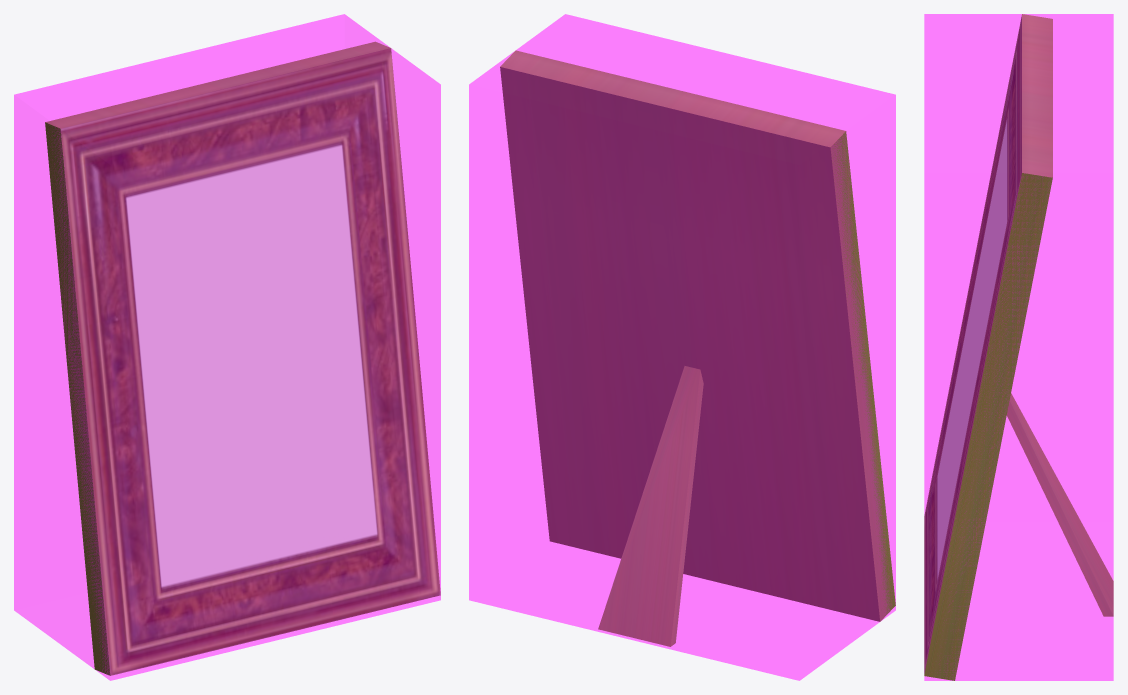
Rendered from photoframe.fbx.
3 renders of one model, left to right at view 1: azimuth 30°, elevation 25°; view 2: azimuth 150°, elevation 25°; view 3: azimuth 270°, elevation 25°, orthographic.
Visible parts, largest first — view 1: boundingbox, photoframe; view 2: boundingbox, photoframe; view 3: boundingbox, photoframe.
Boxes of the visible parts, x1,y1,x2,y2 form: boundingbox: [14, 14, 440, 680]; photoframe: [45, 41, 440, 675]; boundingbox: [469, 14, 895, 680]; photoframe: [500, 50, 895, 646]; boundingbox: [924, 14, 1113, 680]; photoframe: [924, 14, 1113, 680].
Size of the model in its own units: 12 by 17.9 by 6.05.
2 materials, 1 textured.
